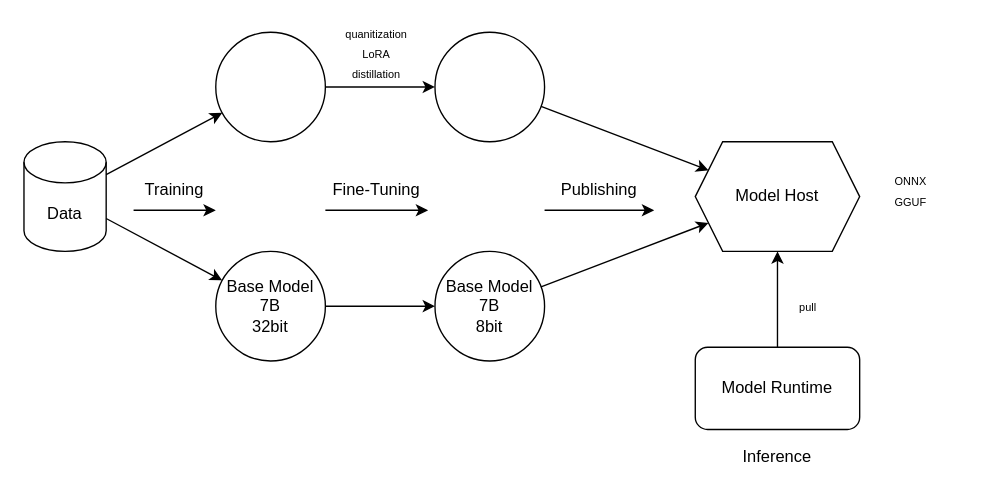
This 986x501 diagram has some shape labels left out. Each missing label, with the centre of its shape:
"Base Model 1B 16bit" goes at point (269, 86).
"Model 1B 4bit" goes at point (489, 86).
